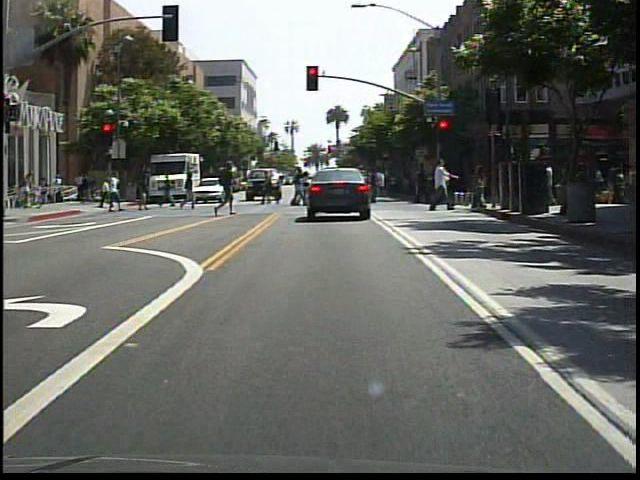person: (428, 156, 460, 214), (211, 160, 240, 217), (341, 166, 363, 217), (105, 170, 126, 218), (180, 170, 202, 211), (159, 170, 177, 211), (258, 170, 274, 207)
